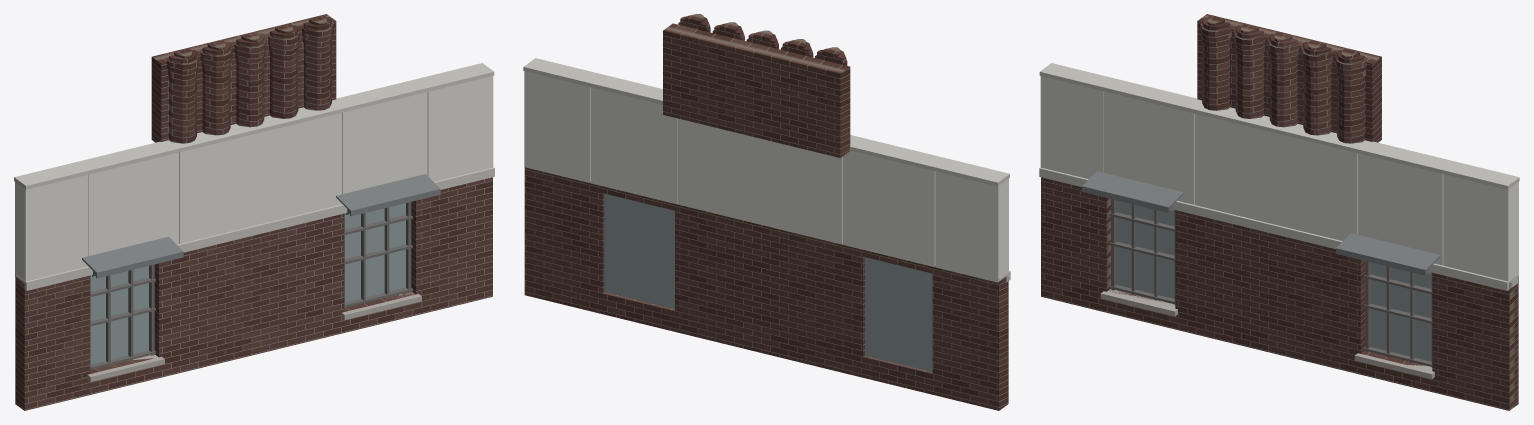
Rendered from dixwell-parapet-far.glb.
3 renders of one model, left to right at view 1: azimuth 30°, elevation 25°; view 2: azimuth 150°, elevation 25°; view 3: azimuth 330°, elevation 25°, orthographic.
Parts seen in each view (by area): view 1: 狄思威公寓四川北路砖砌女儿墙冠与窗檐; view 2: 狄思威公寓四川北路砖砌女儿墙冠与窗檐; view 3: 狄思威公寓四川北路砖砌女儿墙冠与窗檐.
Boxes of the visible parts, left/top/right/bottom form: 狄思威公寓四川北路砖砌女儿墙冠与窗檐: left=14, top=14, right=494, bottom=410; 狄思威公寓四川北路砖砌女儿墙冠与窗檐: left=523, top=14, right=1010, bottom=410; 狄思威公寓四川北路砖砌女儿墙冠与窗檐: left=1039, top=14, right=1519, bottom=410.
Bounding box in the file's own units: 6.72 × 4.29 × 0.875.
7 materials, 1 textured.
